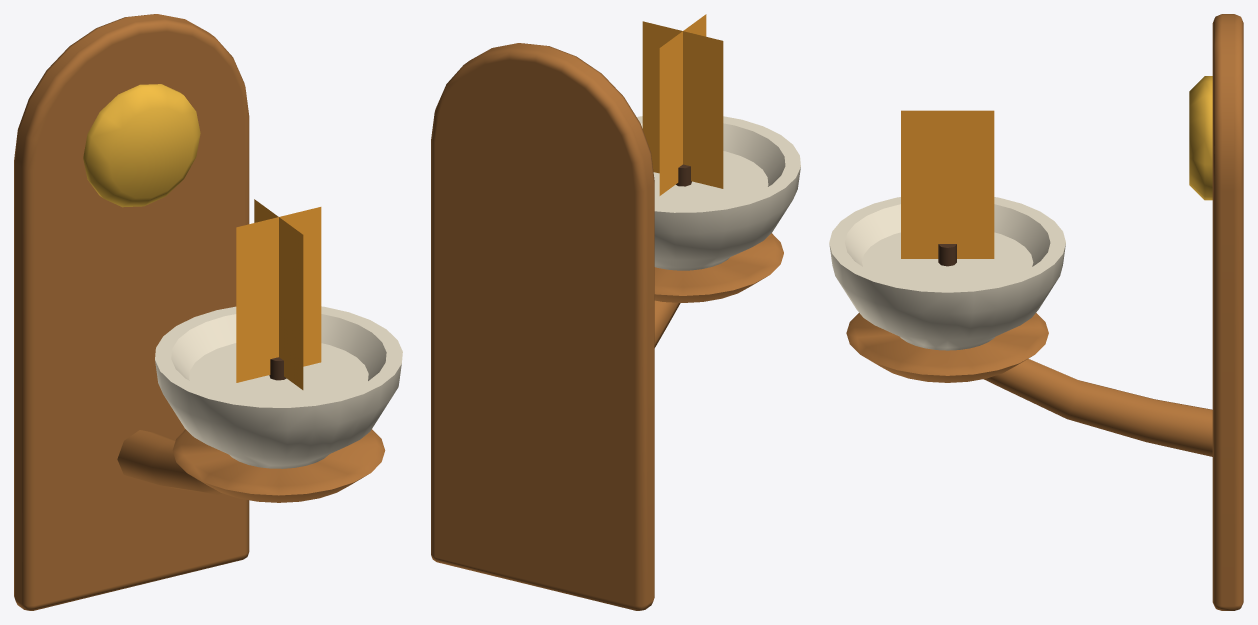
File: P_WallSconce.fbx
3 renders of one model, left to right at view 1: azimuth 30°, elevation 25°; view 2: azimuth 150°, elevation 25°; view 3: azimuth 270°, elevation 25°, orthographic. The views are drawn at different scales.
Parts seen in each view (by area): view 1: P_WallSconce, Flame; view 2: P_WallSconce, Flame; view 3: P_WallSconce, Flame.
Boxes of the visible parts, x1,y1,x2,y2 form: P_WallSconce: (14, 14, 402, 610); Flame: (236, 199, 321, 389); P_WallSconce: (431, 43, 800, 610); Flame: (642, 14, 723, 195); P_WallSconce: (829, 14, 1243, 610); Flame: (901, 110, 994, 258).
Bounding box in the file's own units: 0.16 × 0.38 × 0.266.
